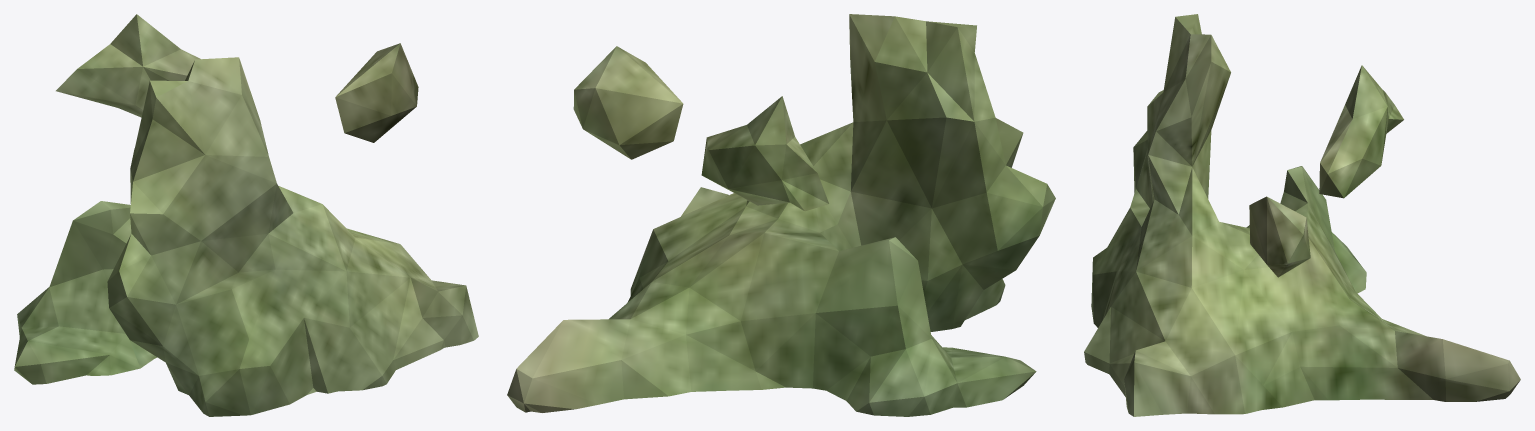
The picture shows the model from 3 angles, left to right: view 1: azimuth 30°, elevation 25°; view 2: azimuth 150°, elevation 25°; view 3: azimuth 270°, elevation 25°; orthographic projection. The views are drawn at different scales.
Size of the model in its own units: 3.6 by 2.47 by 3.55.
Materials: 1 (1 with a texture image).
